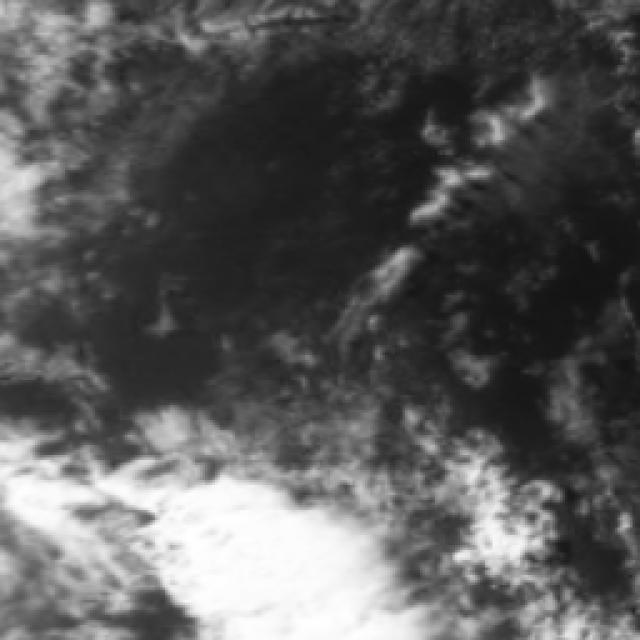CB: (203, 518, 323, 605)
